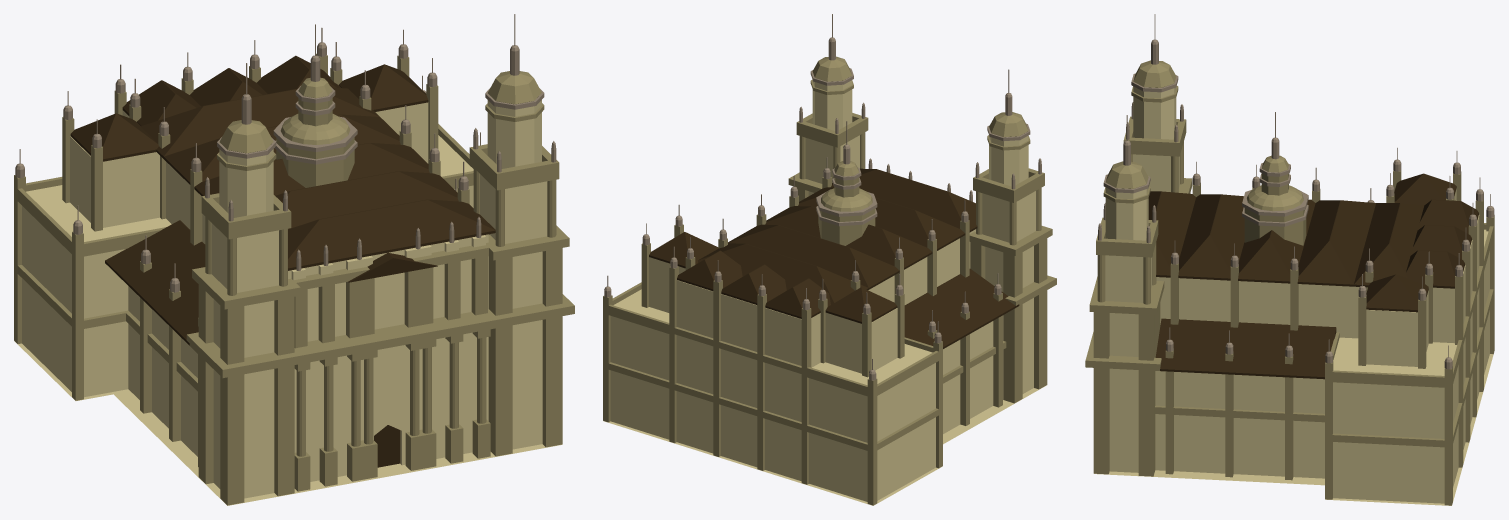
The model's file is catedral.glb.
3 views of the same model, side by side, from view 1: azimuth 30°, elevation 25°; view 2: azimuth 150°, elevation 25°; view 3: azimuth 270°, elevation 25° (orthographic). The views are drawn at different scales.
Parts seen in each view (by area): view 1: asuncion; view 2: asuncion; view 3: asuncion.
Part boxes in pixels (<box>): asuncion: <box>14,14,574,505</box>; asuncion: <box>603,14,1056,505</box>; asuncion: <box>1085,14,1494,505</box>.
Bounding box in the file's own units: 61.57 × 61.74 × 65.82.
